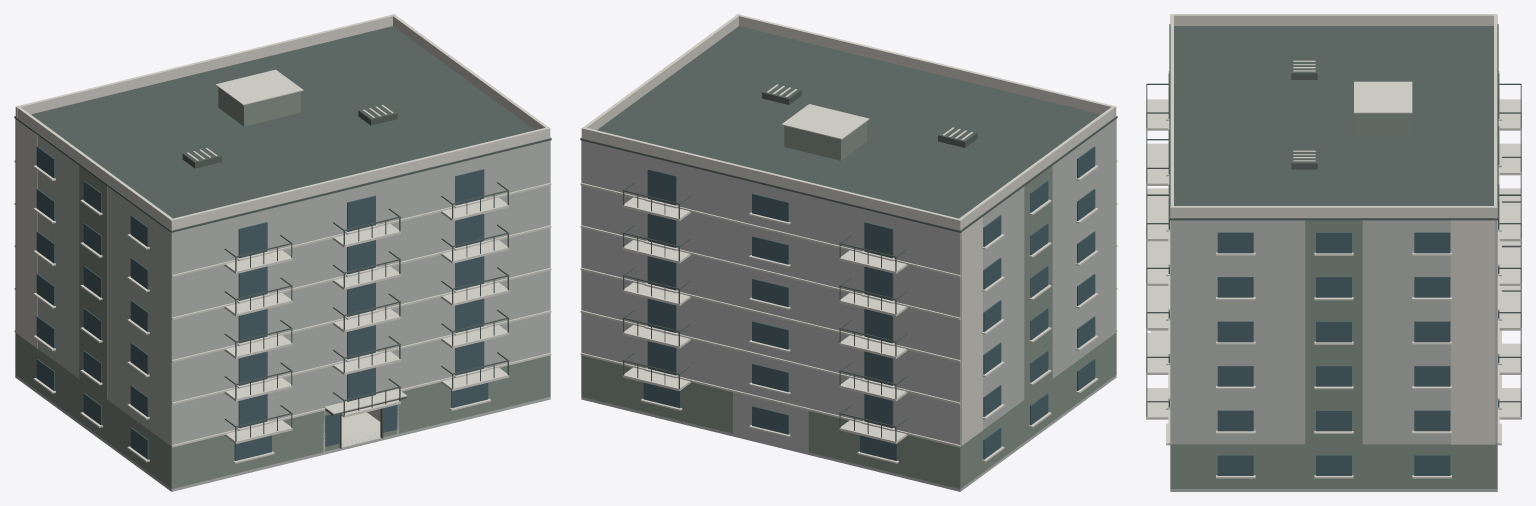
Rendered from midrise-6.glb.
3 renders of one model, left to right at view 1: azimuth 30°, elevation 25°; view 2: azimuth 150°, elevation 25°; view 3: azimuth 270°, elevation 25°, orthographic. The views are drawn at different scales.
Visible parts, largest first — view 1: GC-MID-001-A-concrete, GC-MID-001-A-metal, GC-MID-001-A-offwhite, GC-MID-001-A-glass, GC-MID-001-A-sage; view 2: GC-MID-001-A-concrete, GC-MID-001-A-metal, GC-MID-001-A-offwhite, GC-MID-001-A-glass, GC-MID-001-A-sage; view 3: GC-MID-001-A-metal, GC-MID-001-A-concrete, GC-MID-001-A-offwhite, GC-MID-001-A-sage, GC-MID-001-A-glass.
Part boxes in pixels (x1,y1,x2,y2): GC-MID-001-A-concrete: (15,119,550,491); GC-MID-001-A-metal: (14,26,551,448); GC-MID-001-A-offwhite: (14,14,551,463); GC-MID-001-A-glass: (36,146,488,460); GC-MID-001-A-sage: (15,87,550,488); GC-MID-001-A-concrete: (581,119,1116,491); GC-MID-001-A-metal: (580,26,1117,441); GC-MID-001-A-offwhite: (580,14,1117,463); GC-MID-001-A-glass: (643,146,1095,460); GC-MID-001-A-sage: (581,121,1116,488); GC-MID-001-A-metal: (1146,24,1521,416); GC-MID-001-A-concrete: (1170,220,1497,491); GC-MID-001-A-offwhite: (1146,14,1521,478); GC-MID-001-A-sage: (1170,113,1497,488); GC-MID-001-A-glass: (1168,74,1499,475).
Bounding box in the file's own units: 28.53 × 20.07 × 22.94.
